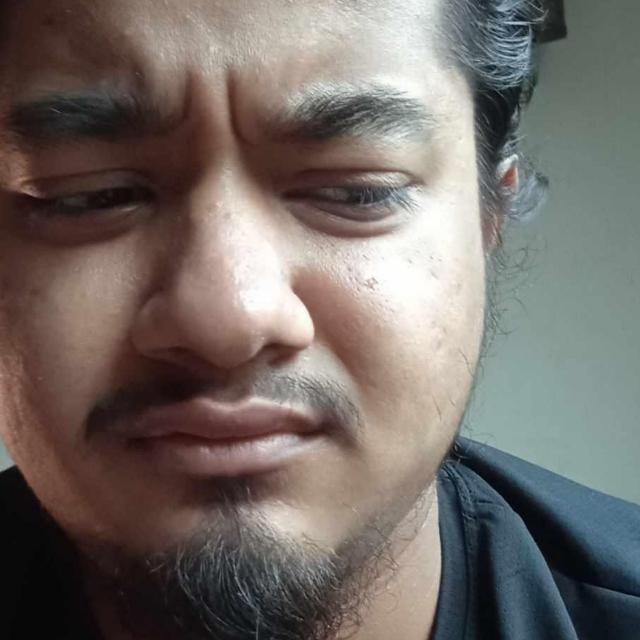Disgust: (0, 31, 516, 608)
